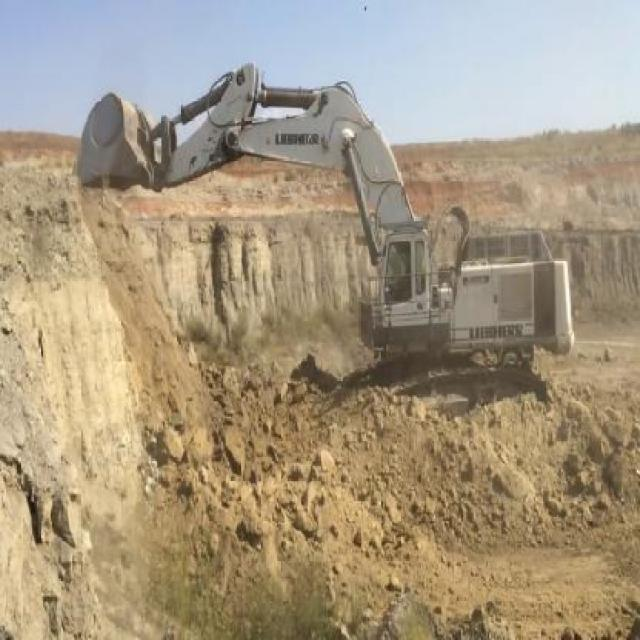Excavator: (73, 61, 572, 422)
